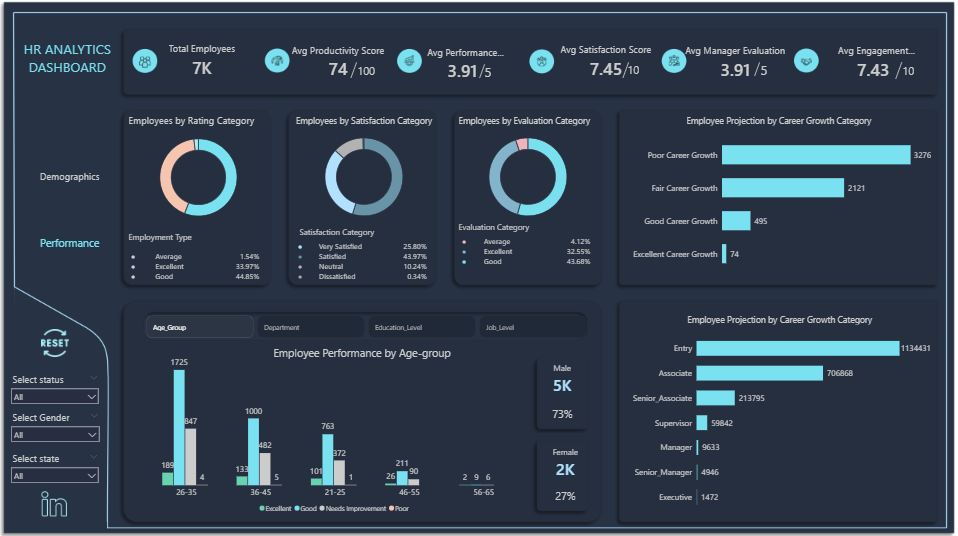

The page's visual inventory and layout, read from the dashboard file:
{"tool":"powerbi","page":{"name":" Performance","canvas":[1920,1080],"ordinal":3},"visuals":[{"type":"cardVisual","fields":{"Data":["Measure_Table.Avg Productivity Score"]},"box":[551.7,70.3,252.4,113.6],"z":0},{"type":"cardVisual","fields":{"Data":["Measure_Table.Total Employees"]},"box":[292.1,68.5,229,111.8],"z":1000},{"type":"tableEx","fields":{"Values":["Measure_Table.Icon","monthly_performance.Rating Category","Measure_Table.Total Employees"]},"box":[252.4,472.3,288.5,106.4],"z":3000},{"type":"textbox","box":[254.2,461.5,164.1,41.5],"z":4000},{"type":"donutChart","title":"Employees by Rating Category","fields":{"Y":["Measure_Table.Total Employees"],"Category":["monthly_performance.Rating Category"]},"box":[253.1,232.1,289.7,228.7],"z":5000},{"type":"clusteredColumnChart","fields":{"Category":["employees.Age_Group"],"Y":["Measure_Table.Total Employees"],"Series":["monthly_performance.Overall_Performance_Category"]},"box":[261.4,699.5,820.3,338.9],"z":6000},{"type":"advancedSlicerVisual","fields":{"Values":["Demographics 3.Demographics"]},"box":[289.5,629.7,893,55.8],"z":7000},{"type":"cardVisual","fields":{"Data":["Measure_Table.Male"]},"box":[1071.7,710.4,110,103],"z":8000},{"type":"cardVisual","fields":{"Data":["Measure_Table.Male %"]},"box":[1072.7,798.6,110,61.3],"z":9000},{"type":"cardVisual","fields":{"Data":["Measure_Table.Female"]},"box":[1078.1,878,110,102.8],"z":10000},{"type":"cardVisual","fields":{"Data":["Measure_Table.Female %"]},"box":[1078.1,962.7,110,63.1],"z":11000},{"type":"textbox","box":[490.4,690.5,477.7,39.7],"z":12000},{"type":"shape","box":[695.9,128,27,32.5],"z":13000},{"type":"textbox","box":[712.1,126.2,86.5,55.9],"z":14000},{"type":"cardVisual","fields":{"Data":["Measure_Table.Avg Performance Rating"]},"box":[814.9,70.3,225.4,120.8],"z":15000},{"type":"shape","box":[921.2,131.6,88.3,28.8],"z":16000},{"type":"textbox","box":[966.3,124.4,73.9,57.7],"z":17000},{"type":"cardVisual","fields":{"Data":["Measure_Table.Avg Satisfaction Score"]},"box":[1093.6,62.8,240.7,127.3],"z":18000},{"type":"shape","box":[1240.3,128,27,32.5],"z":19000},{"type":"textbox","box":[1253,124.4,61.3,57.7],"z":20000},{"type":"cardVisual","fields":{"Data":["Measure_Table.Avg Manager Evaluation"]},"box":[1341.3,63.1,261.4,126.2],"z":21000},{"type":"shape","box":[1472.1,127.2,88.3,28.8],"z":22000},{"type":"textbox","box":[1517.2,120,73.9,57.7],"z":23000},{"type":"cardVisual","fields":{"Data":["Measure_Table.Avg Engagement Index"]},"box":[1627.9,63.1,241.6,126.2],"z":24000},{"type":"shape","box":[1786.6,128,27,34.3],"z":25000},{"type":"textbox","box":[1801,126.2,55.9,52.3],"z":26000},{"type":"clusteredBarChart","title":"Employee Projection by Career Growth Category","fields":{"Category":["employees.Job_Level"],"Y":["Sum(monthly_performance.Monthly_Bonus)"]},"box":[1254.8,629.2,614.8,409.2],"z":27000},{"type":"clusteredBarChart","title":"Employee Projection by Career Growth Category","fields":{"Y":["Measure_Table.Total Employees"],"Category":["monthly_performance.Career_Growth_Category"]},"box":[1250.6,232,619.2,333.1],"z":28000},{"type":"slicer","title":"Select Status","fields":{"Values":["employees.Status"]},"box":[14,744.8,195.3,78.5],"z":29000},{"type":"slicer","title":"Select Status","fields":{"Values":["employees.State"]},"box":[14,901.7,195.3,78.5],"z":30000},{"type":"slicer","title":"Select Status","fields":{"Values":["employees.Gender"]},"box":[14.4,820.3,196.5,77.5],"z":31000},{"type":"tableEx","fields":{"Values":["Measure_Table.Icon","monthly_performance.Satisfaction_Category","Measure_Table.Total Employees"]},"box":[585.9,452.5,288.5,126.2],"z":32000},{"type":"donutChart","title":"Employees by Satisfaction Category","fields":{"Category":["monthly_performance.Satisfaction_Category"],"Y":["CountNonNull(employees.Employment_Type)"]},"box":[586,232,287.8,228.5],"z":33000},{"type":"textbox","box":[596,451.3,164,38.4],"z":34000},{"type":"tableEx","fields":{"Values":["Measure_Table.Icon","monthly_performance.Evaluation Category","Measure_Table.Total Employees"]},"box":[913.6,442.3,287.5,122.5],"z":36000},{"type":"donutChart","title":"Employees by Evaluation Category","fields":{"Y":["Measure_Table.Total Employees"],"Category":["monthly_performance.Evaluation Category"]},"box":[914,232,287.8,228.5],"z":37000},{"type":"textbox","box":[914,441.7,164.1,39.7],"z":38000},{"type":"pageNavigator","box":[30.6,293.9,223.5,257.8],"z":40000},{"type":"textbox","box":[33.1,78.5,205.8,102.9],"z":41000},{"type":"image","box":[76.7,985.5,69.8,51],"z":42000},{"type":"image","box":[75,662.8,71.5,55.8],"z":43000}]}

Visuals, with their boxes in screenshot pixels (x1, y1, x2, y2), scaled from the page's 1920x1080 canvas onto the 958x536 screenshot:
cardVisual - Measure_Table.Avg Productivity Score: BBox(275, 35, 401, 91)
cardVisual - Measure_Table.Total Employees: BBox(146, 34, 260, 89)
tableEx - Measure_Table.Icon x monthly_performance.Rating Category: BBox(126, 234, 270, 287)
textbox: BBox(127, 229, 209, 250)
"Employees by Rating Category" donutChart: BBox(126, 115, 271, 229)
clusteredColumnChart - employees.Age_Group x Measure_Table.Total Employees: BBox(130, 347, 540, 515)
advancedSlicerVisual - Demographics 3.Demographics: BBox(144, 313, 590, 340)
cardVisual - Measure_Table.Male: BBox(535, 353, 590, 404)
cardVisual - Measure_Table.Male %: BBox(535, 396, 590, 427)
cardVisual - Measure_Table.Female: BBox(538, 436, 593, 487)
cardVisual - Measure_Table.Female %: BBox(538, 478, 593, 509)
textbox: BBox(245, 343, 483, 362)
shape: BBox(347, 64, 361, 80)
textbox: BBox(355, 63, 398, 90)
cardVisual - Measure_Table.Avg Performance Rating: BBox(407, 35, 519, 95)
shape: BBox(460, 65, 504, 80)
textbox: BBox(482, 62, 519, 90)
cardVisual - Measure_Table.Avg Satisfaction Score: BBox(546, 31, 666, 94)
shape: BBox(619, 64, 632, 80)
textbox: BBox(625, 62, 656, 90)
cardVisual - Measure_Table.Avg Manager Evaluation: BBox(669, 31, 800, 94)
shape: BBox(735, 63, 779, 77)
textbox: BBox(757, 60, 794, 88)
cardVisual - Measure_Table.Avg Engagement Index: BBox(812, 31, 933, 94)
shape: BBox(891, 64, 905, 81)
textbox: BBox(899, 63, 927, 89)
"Employee Projection by Career Growth Category" clusteredBarChart: BBox(626, 312, 933, 515)
"Employee Projection by Career Growth Category" clusteredBarChart: BBox(624, 115, 933, 280)
"Select Status" slicer: BBox(7, 370, 104, 409)
"Select Status" slicer: BBox(7, 448, 104, 486)
"Select Status" slicer: BBox(7, 407, 105, 446)
tableEx - Measure_Table.Icon x monthly_performance.Satisfaction_Category: BBox(292, 225, 436, 287)
"Employees by Satisfaction Category" donutChart: BBox(292, 115, 436, 229)
textbox: BBox(297, 224, 379, 243)
tableEx - Measure_Table.Icon x monthly_performance.Evaluation Category: BBox(456, 220, 599, 280)
"Employees by Evaluation Category" donutChart: BBox(456, 115, 600, 229)
textbox: BBox(456, 219, 538, 239)
pageNavigator: BBox(15, 146, 127, 274)
textbox: BBox(17, 39, 119, 90)
image: BBox(38, 489, 73, 514)
image: BBox(37, 329, 73, 357)
